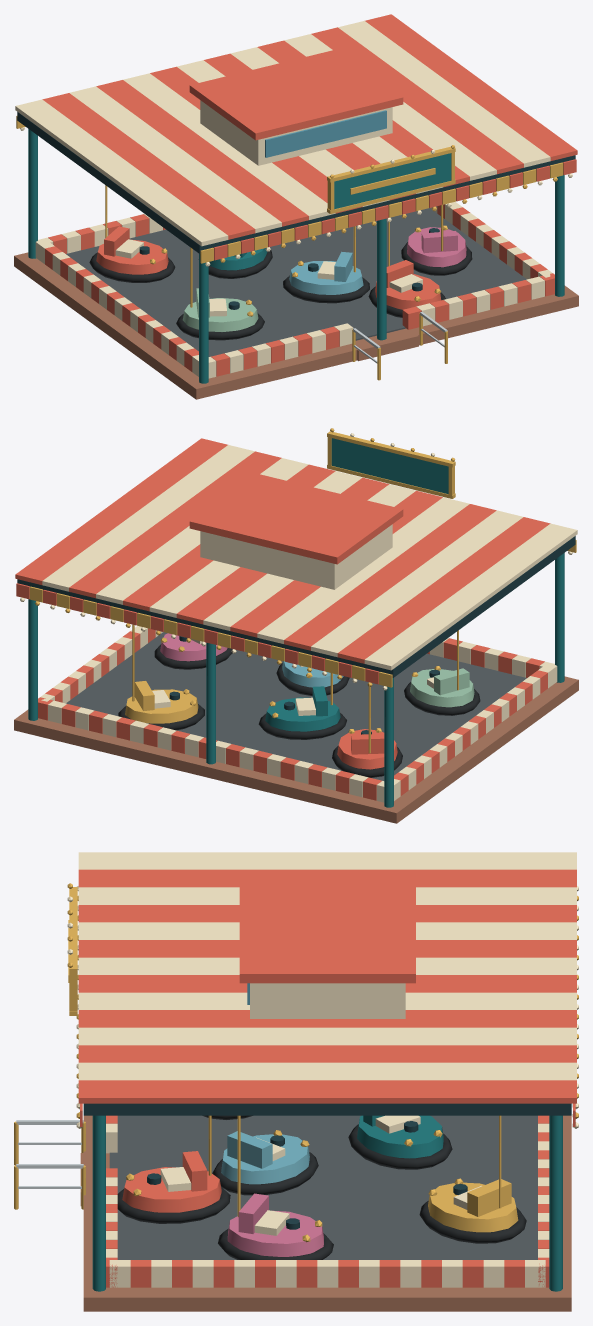
File: ride_bumper.glb
3 renders of one model, top to bottom at view 1: azimuth 30°, elevation 25°; view 2: azimuth 150°, elevation 25°; view 3: azimuth 270°, elevation 25°, orthographic. The views are drawn at different scales.
Parts seen in each view (by area): view 1: ride_bumper; view 2: ride_bumper; view 3: ride_bumper.
Part boxes in pixels (<box>): ride_bumper: <box>14,14,578,399</box>; ride_bumper: <box>14,428,578,823</box>; ride_bumper: <box>14,852,578,1311</box>.
Bounding box in the file's own units: 11.4 × 5.6 × 10.88.
